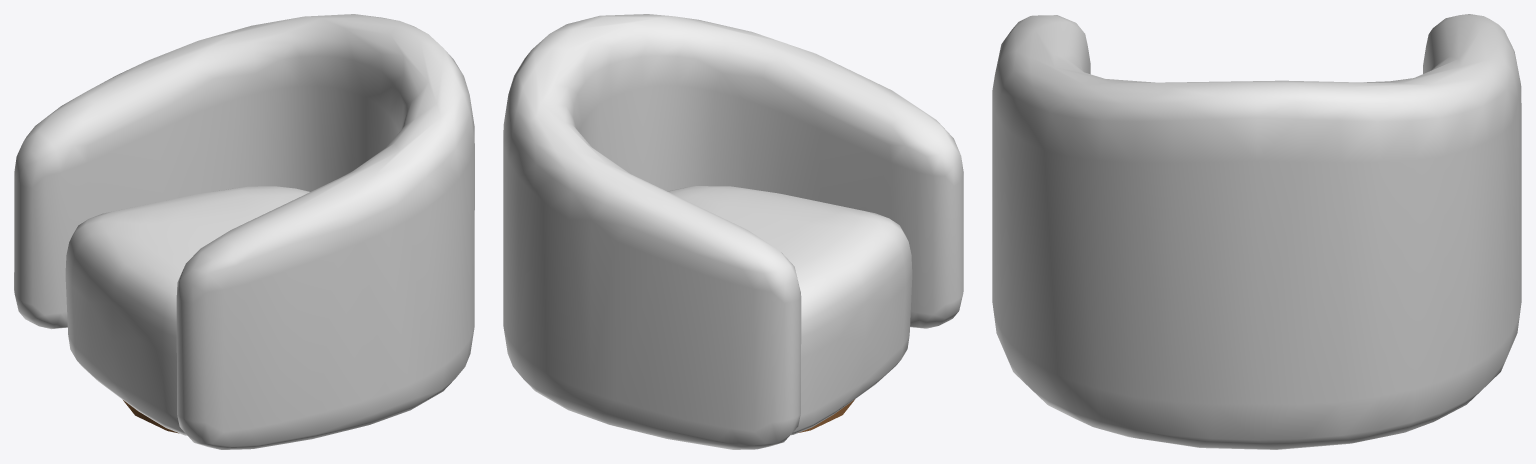
Rendered from armchair_04_white.fbx.
The picture shows the model from 3 angles, left to right: view 1: azimuth 30°, elevation 25°; view 2: azimuth 150°, elevation 25°; view 3: azimuth 270°, elevation 25°; orthographic projection. The views are drawn at different scales.
Parts seen in each view (by area): view 1: armchair_04_white; view 2: armchair_04_white; view 3: armchair_04_white.
Boxes of the visible parts, x1,y1,x2,y2 form: armchair_04_white: (14, 14, 474, 449); armchair_04_white: (503, 14, 963, 449); armchair_04_white: (992, 14, 1521, 449).
Size of the model in its own units: 115 by 99.69 by 122.
Materials: 2 (2 with a texture image).
